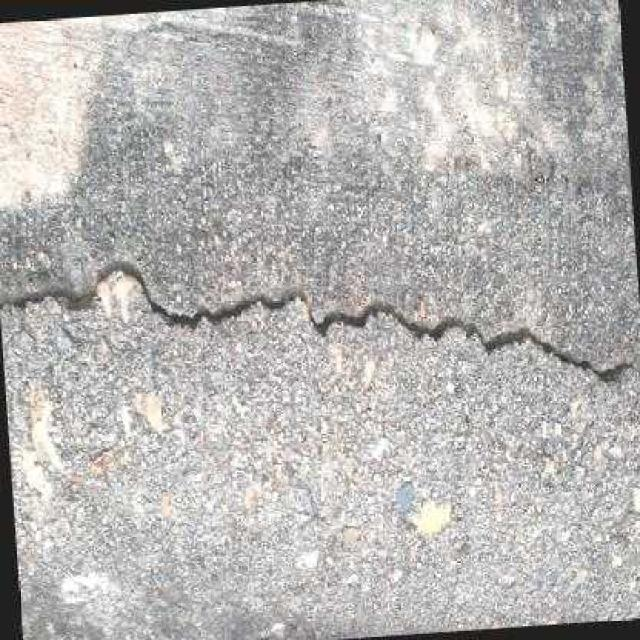D00: (0, 260, 640, 383)
